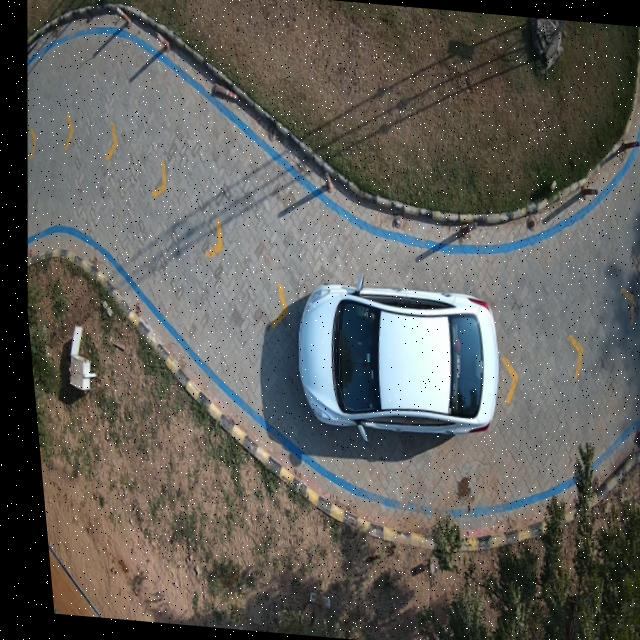car: (291, 277, 491, 441)
